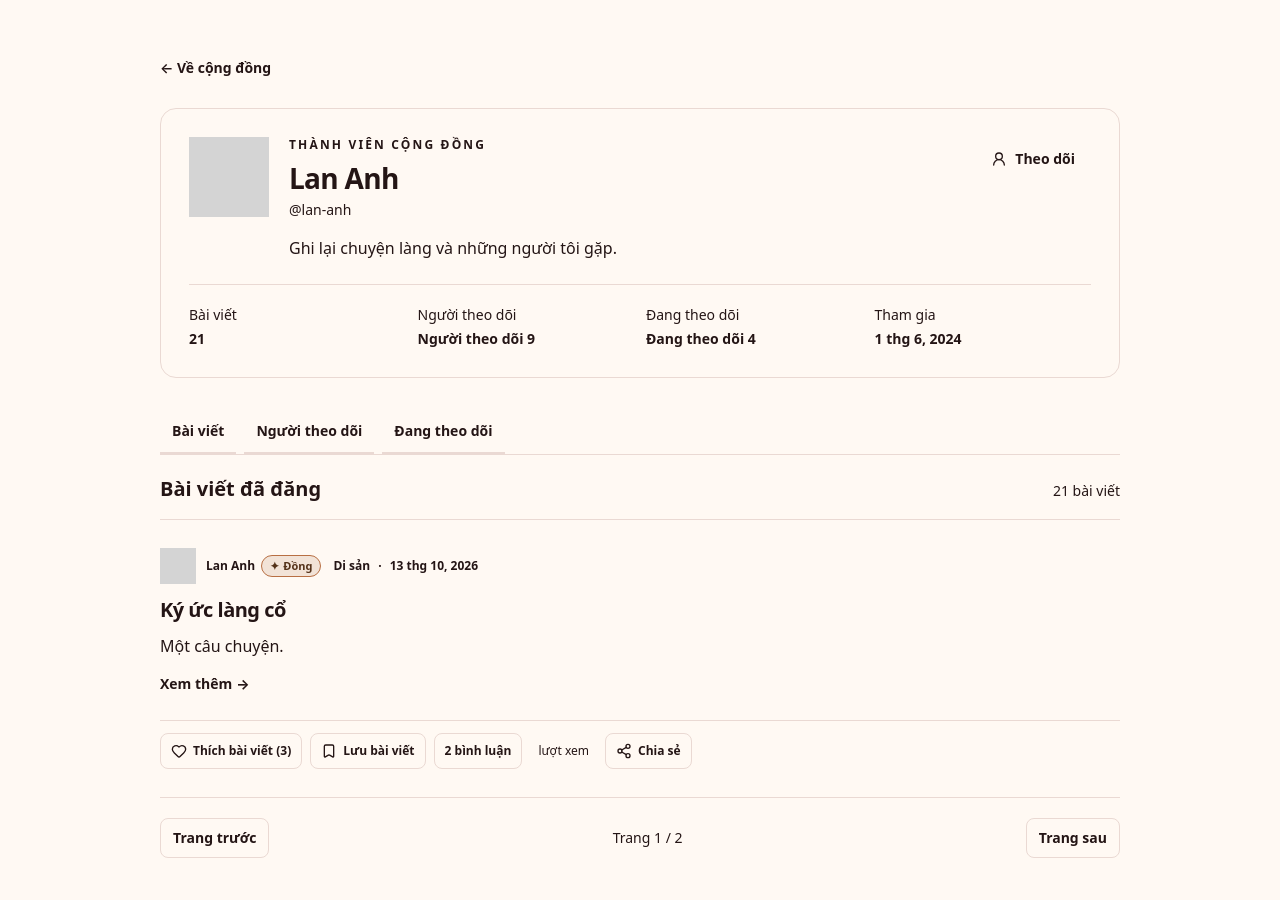
Scenario: CommunityMemberProfile › shows the safe community profile, published posts, and follow state
Check: the heading "Lan Anh" is shown, box [289, 159, 399, 197]
Check: the text "Ghi lại chuyện làng và những người tôi gặp." is shown, box [289, 236, 617, 260]
Click the button "Theo dõi". click: [1033, 159]
box: [975, 137, 1091, 181]
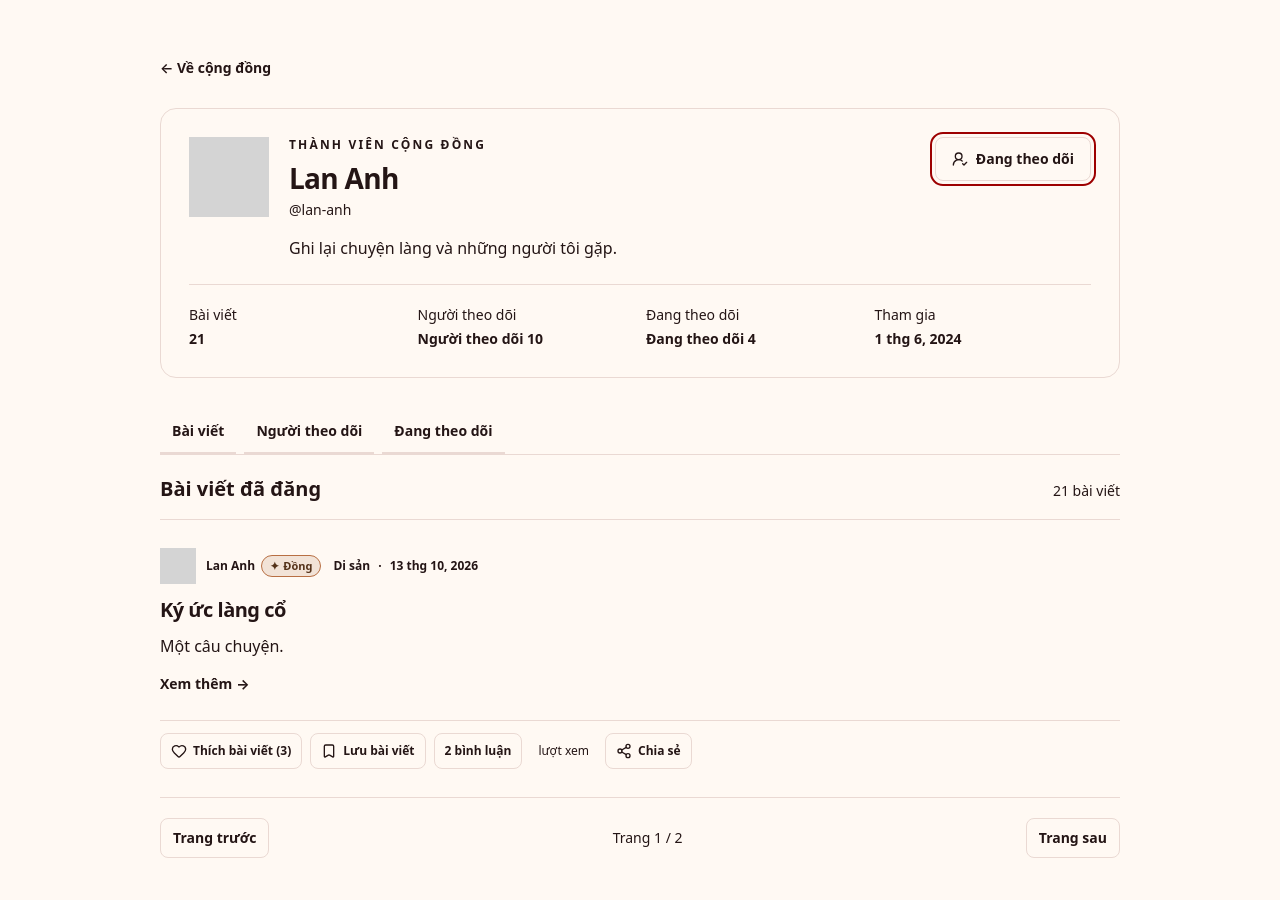
Check: the button "Đang theo dõi" is shown, box [935, 137, 1091, 181]
Check: the link "Người theo dõi 10" is shown, box [418, 329, 543, 348]
